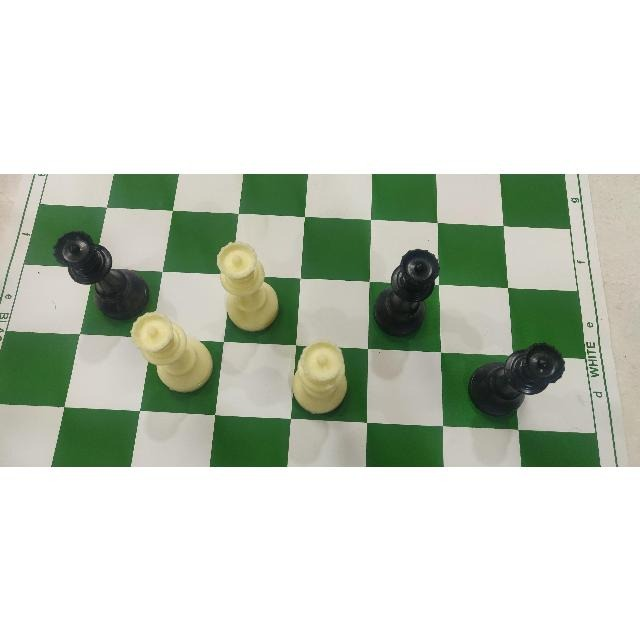black-queen: (47, 229, 149, 313), (464, 336, 565, 416), (378, 239, 436, 341)
white-queen: (115, 302, 210, 381), (204, 235, 280, 330), (295, 335, 349, 417)
